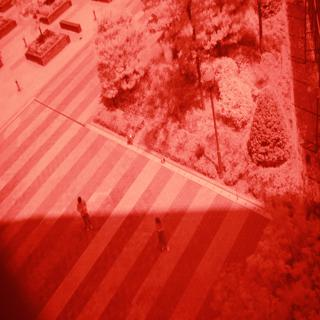person: (72, 191, 97, 235), (151, 208, 170, 254)
